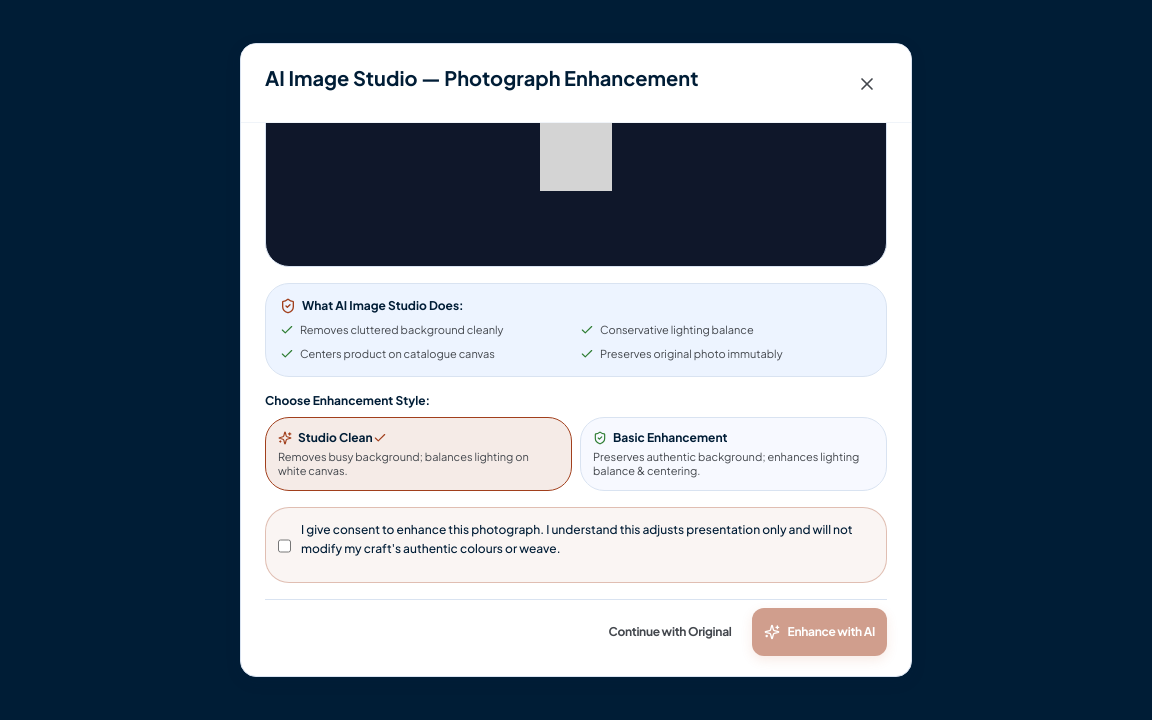
Test: AIEnhancementModal › renders consent review step with disabled submit button until checkbox is checked
(page scrolled)
Expected: the heading "AI Image Studio — Photograph Enhancement" is shown, [265, 64, 698, 92]
Expected: the text "Removes cluttered background cleanly" is shown, [300, 322, 504, 338]
# Check the consent checkbox
Click the checkbox. click: (284, 546)
box: [278, 522, 291, 570]
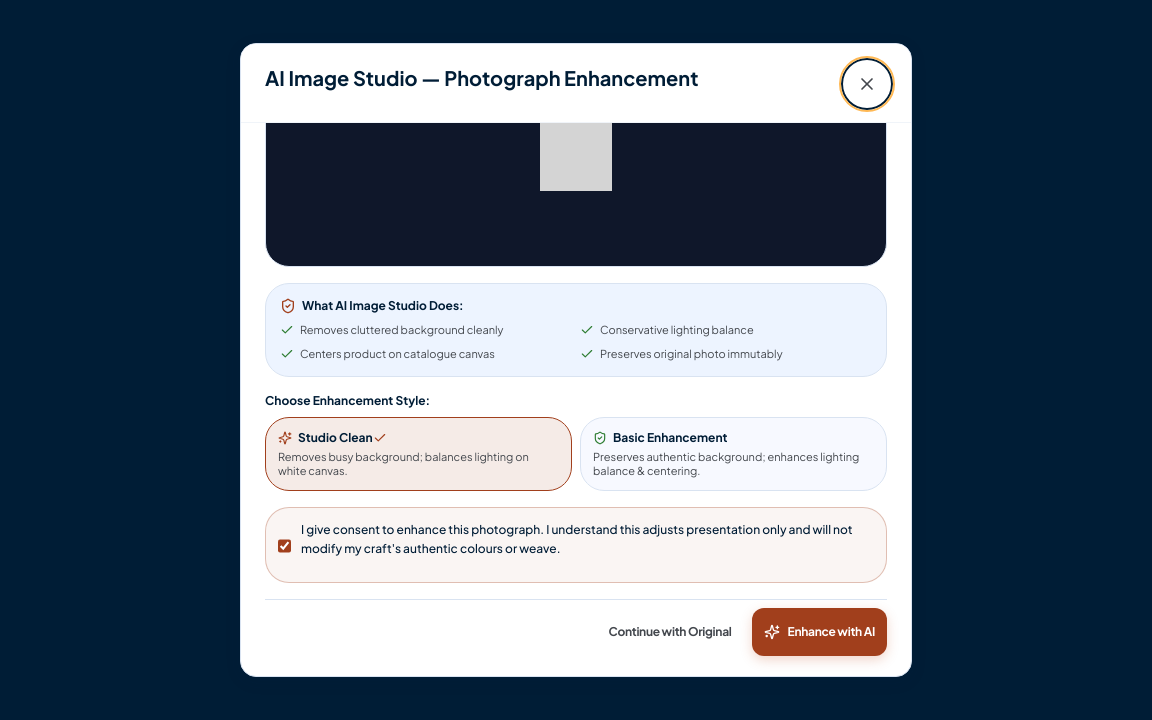
Expected: the button "Enhance with AI" is enabled, [752, 608, 887, 656]
